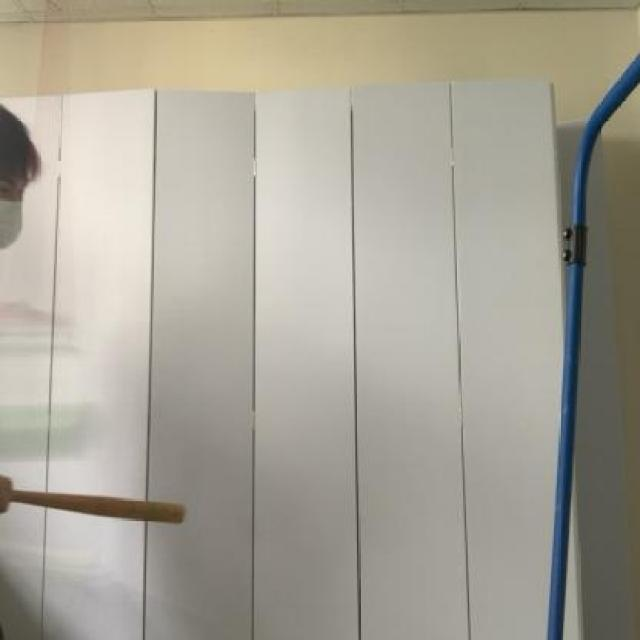baseball: (0, 402, 97, 462)
